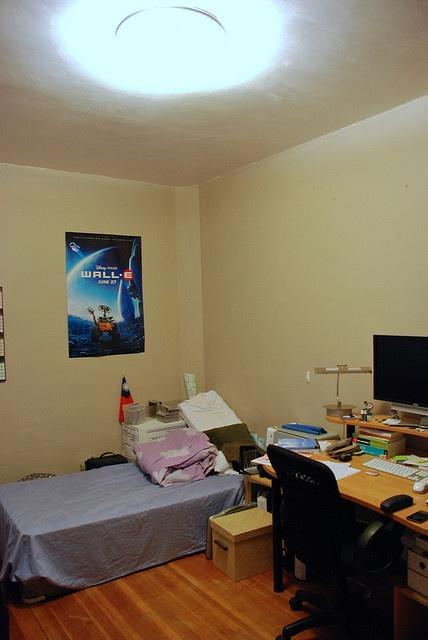AIO PC-Monitor-TV: (370, 333, 427, 417)
Kursi: (265, 442, 393, 639)
Meja: (261, 435, 427, 535)
